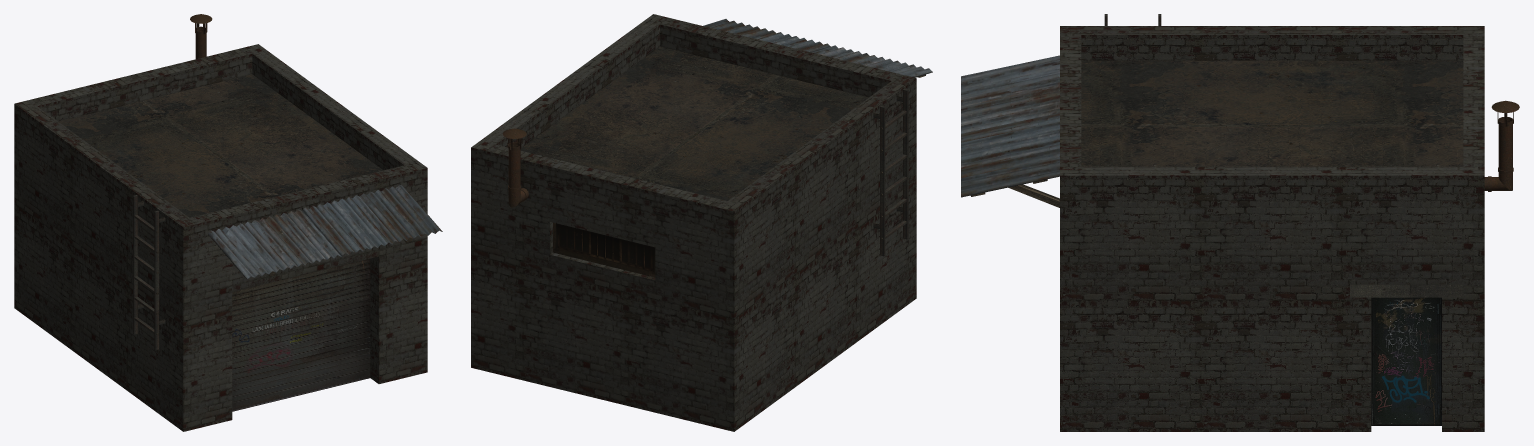
The model's file is garage_hl_2.obj.
3 renders of one model, left to right at view 1: azimuth 30°, elevation 25°; view 2: azimuth 150°, elevation 25°; view 3: azimuth 270°, elevation 25°, orthographic. The views are drawn at different scales.
Parts seen in each view (by area): view 1: garage_hl_2; view 2: garage_hl_2; view 3: garage_hl_2.
Boxes of the visible parts, x1,y1,x2,y2 form: garage_hl_2: (14, 14, 442, 431); garage_hl_2: (471, 14, 932, 431); garage_hl_2: (961, 14, 1519, 431).
Bounding box in the file's own units: 5.22 × 4.7 × 7.9.
